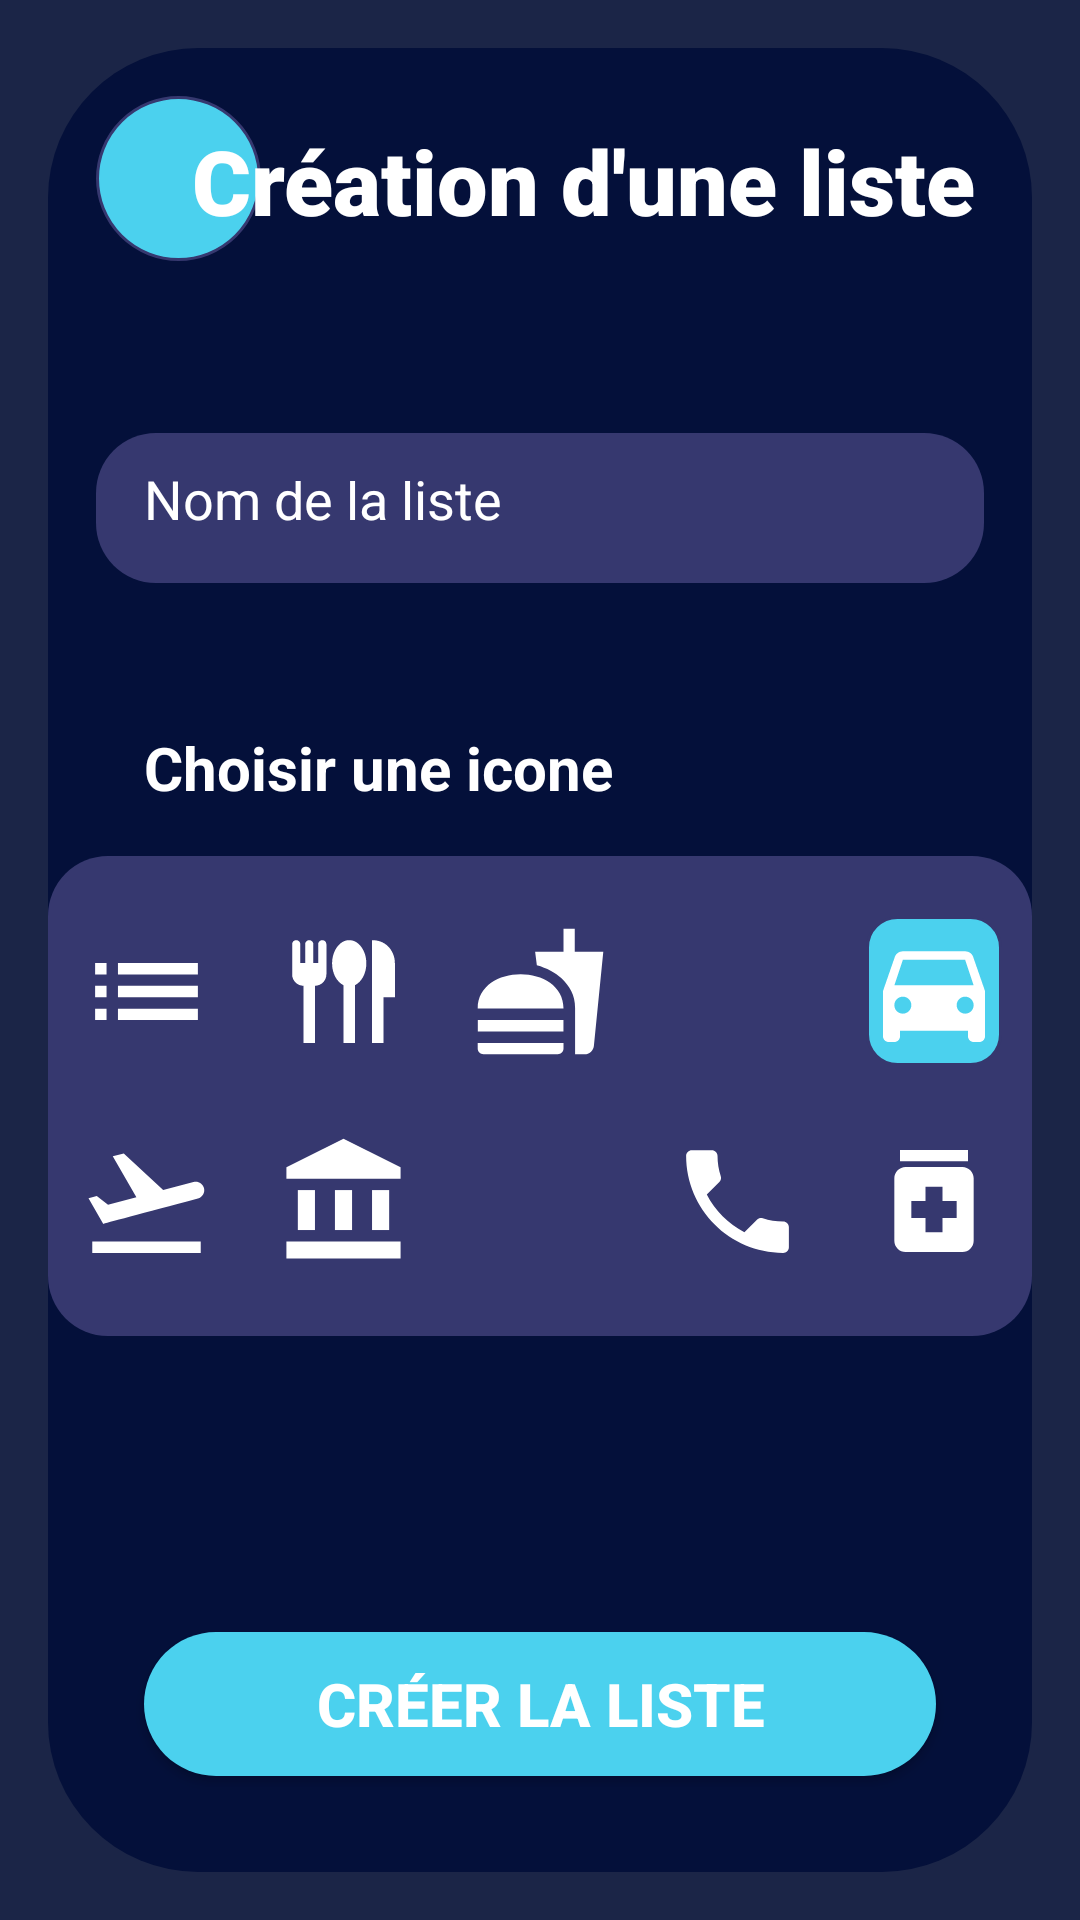

Screen size 1080*1920. Icon name, then its box in pixels as (x1, y1, x2, y2):
account balance: (286, 1138, 401, 1259)
autres: (95, 963, 198, 1020)
car: (869, 919, 999, 1063)
fastfood: (477, 928, 604, 1055)
flatware: (292, 940, 395, 1043)
flight: (88, 1153, 205, 1253)
local phone: (686, 1150, 789, 1253)
medication: (894, 1150, 974, 1252)
